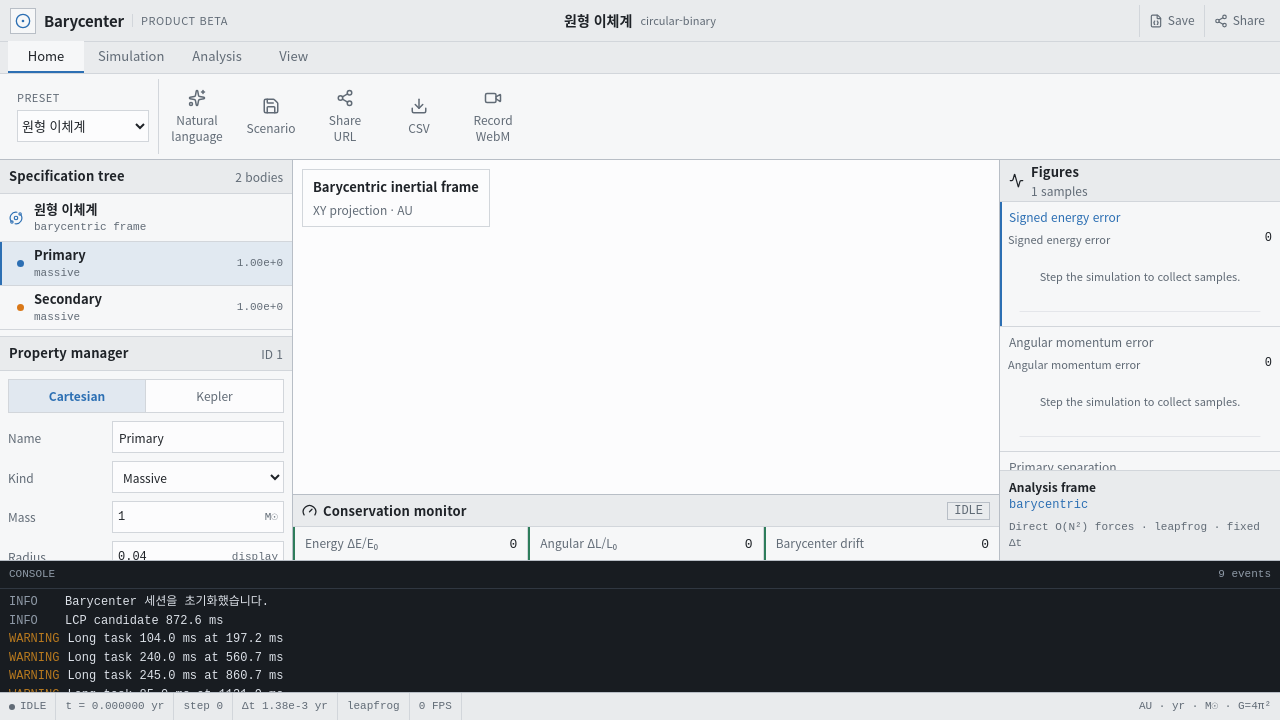
natural-language review and apply flow › reports an unsupported request without disabling manual simulation
Step 1. Click the button "Natural language" → (197, 116), box 161,79 -> 233,154
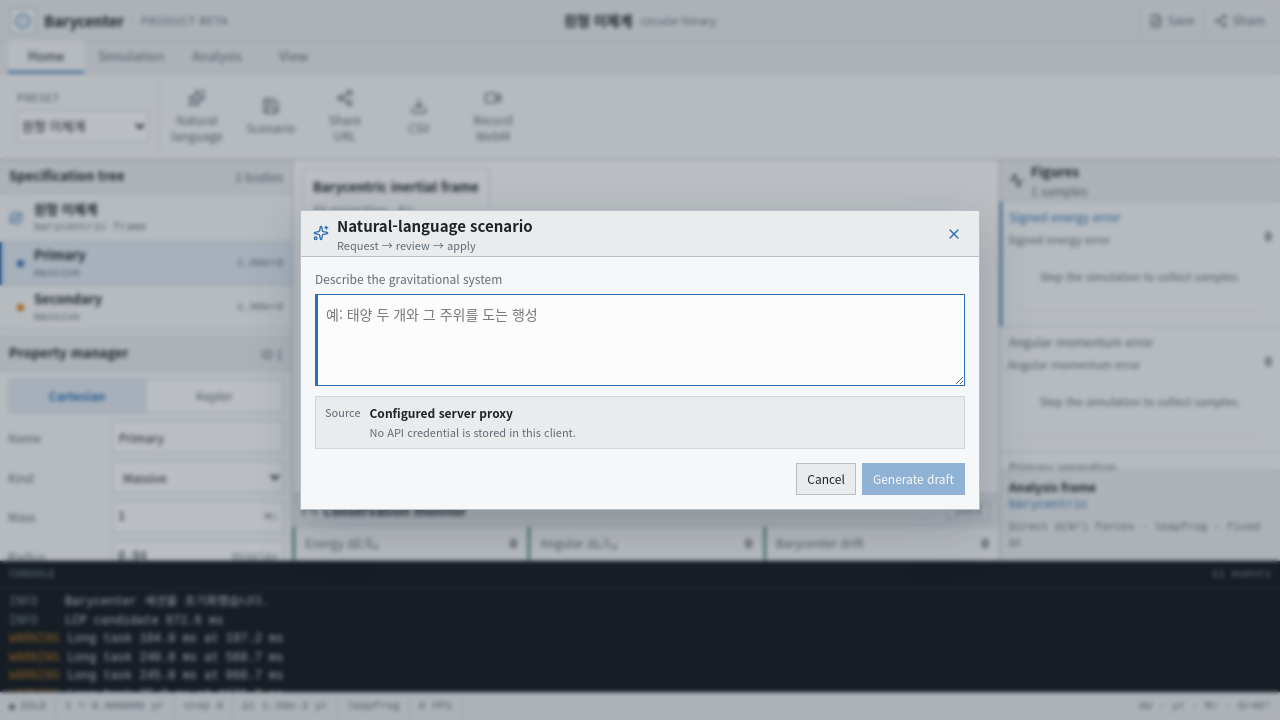
Step 2. Type "an unrecognized speculative arrangement" into the text box labelled "Describe the gravitational system" → (640, 340), box 315,294 -> 965,386
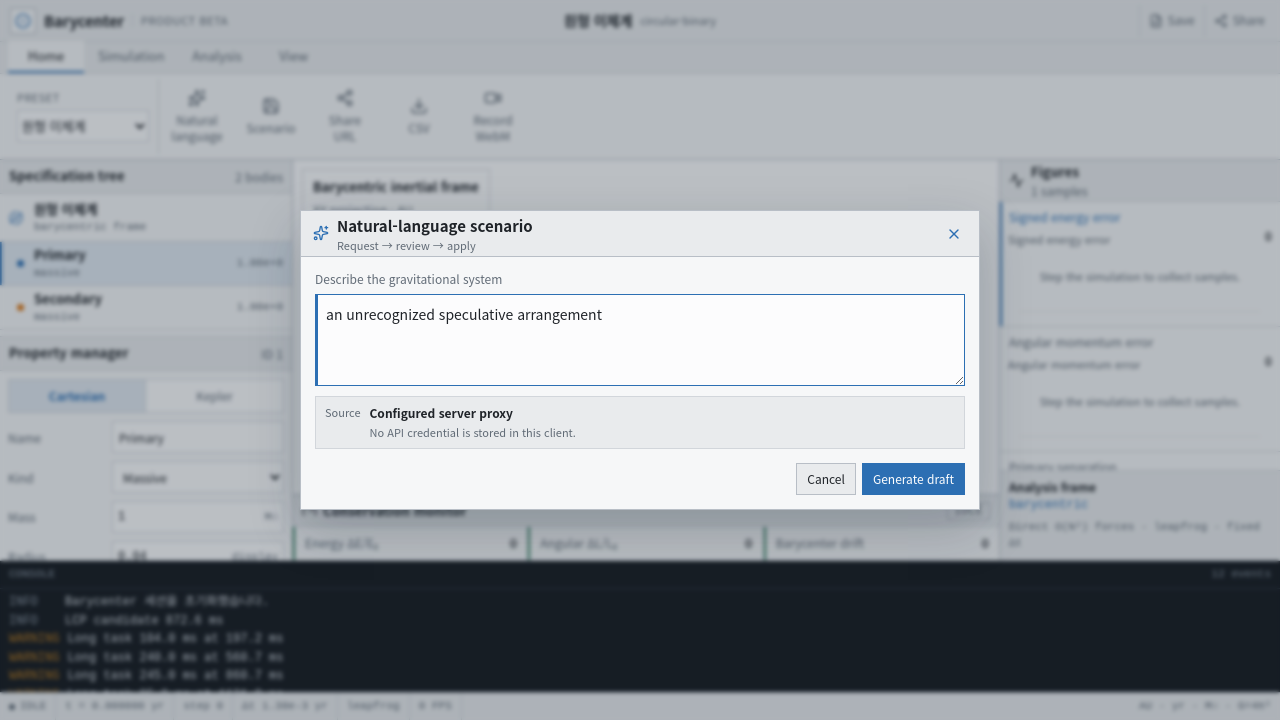
Step 3. Click the button "Generate draft" → (913, 479), box 862,463 -> 965,495
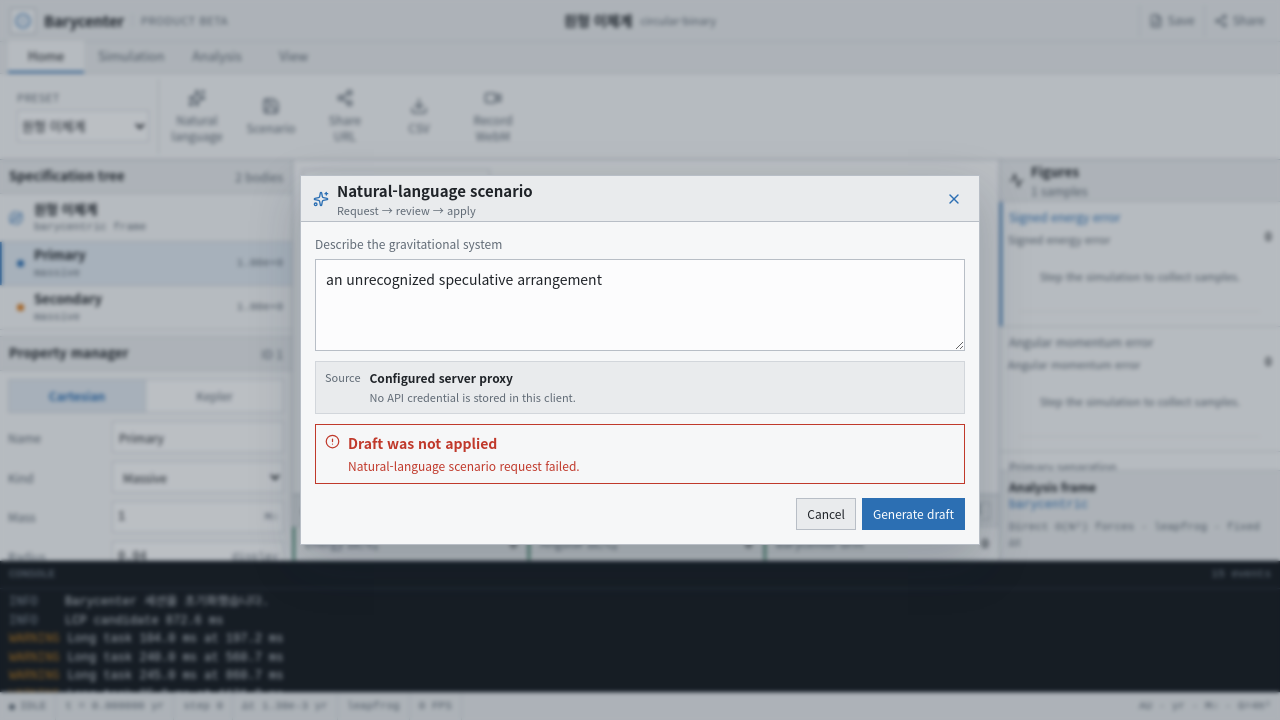
Expected: the text "원형 이체계" is shown, 564,11 -> 632,30
Now the message shows "Draft was not applied", box 348,433 -> 497,453
Step 4. Click the button named "Close natural-language scenario" → (953, 198), box 939,184 -> 967,212
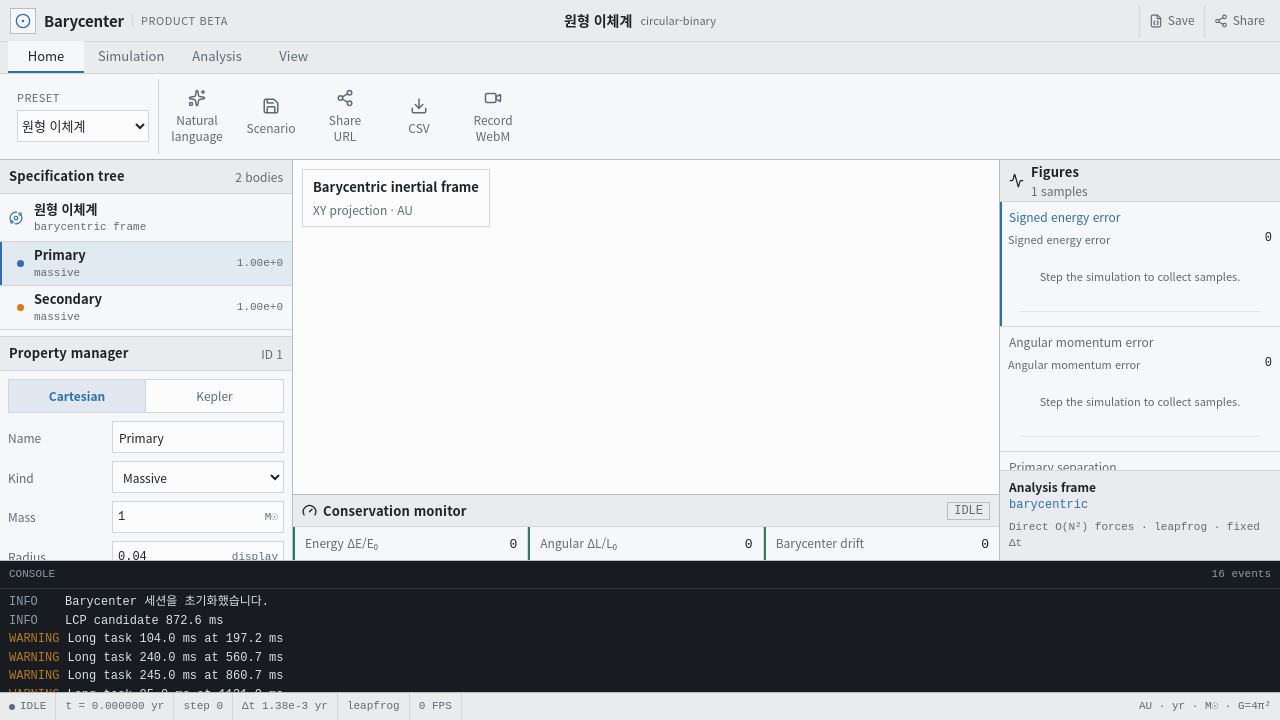
Step 5. Click the tab "Simulation" → (131, 57), box 84,41 -> 178,73
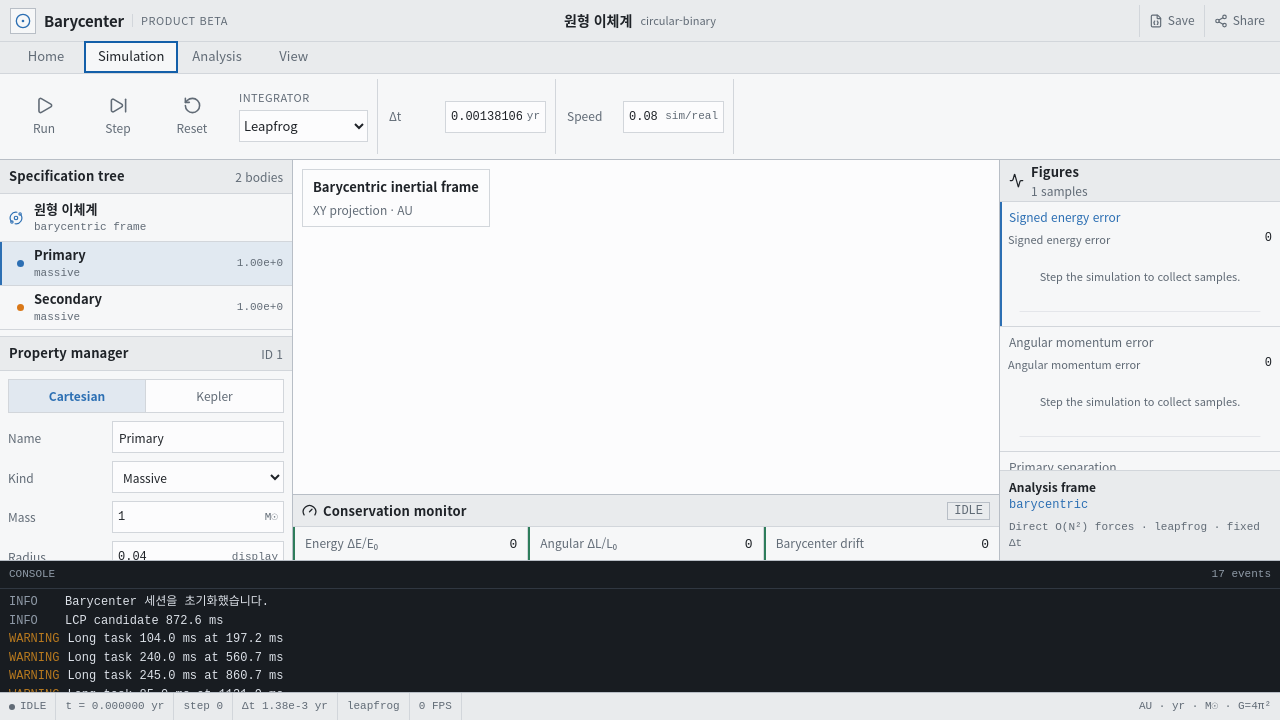
Step 6. Click the button "Run" → (44, 116), box 8,79 -> 80,154
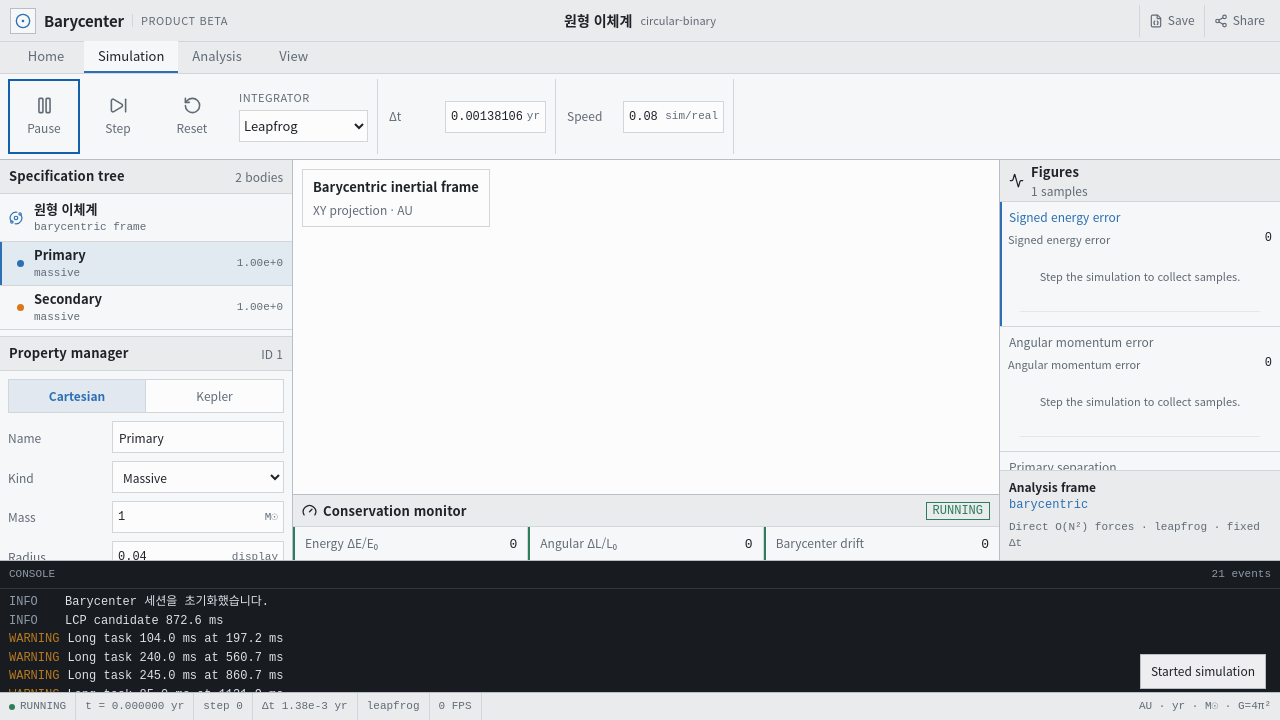
Now the text "RUNNING" is shown, box 0,693 -> 76,719
